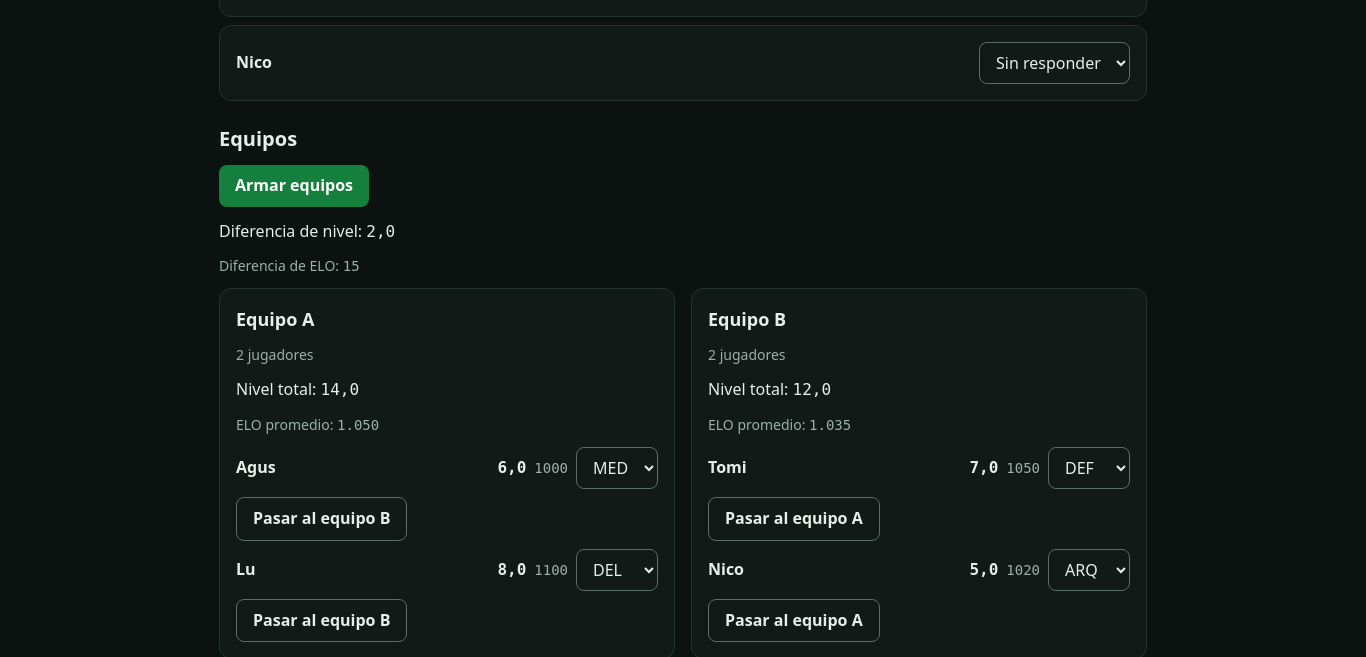
Test: MatchSetupPage › equipos guardados › el admin ve nivel total y diferencia de nivel y se actualizan al mover jugadores
(page scrolled)
Check: the text "Diferencia de nivel: 2,0" is shown, box [219, 220, 395, 242]
Check: the text "Nivel total: 14,0" is shown, box [236, 378, 359, 400]
Click the button named "Pasar al equipo B (Lu)" at (322, 620), box [236, 599, 407, 642]
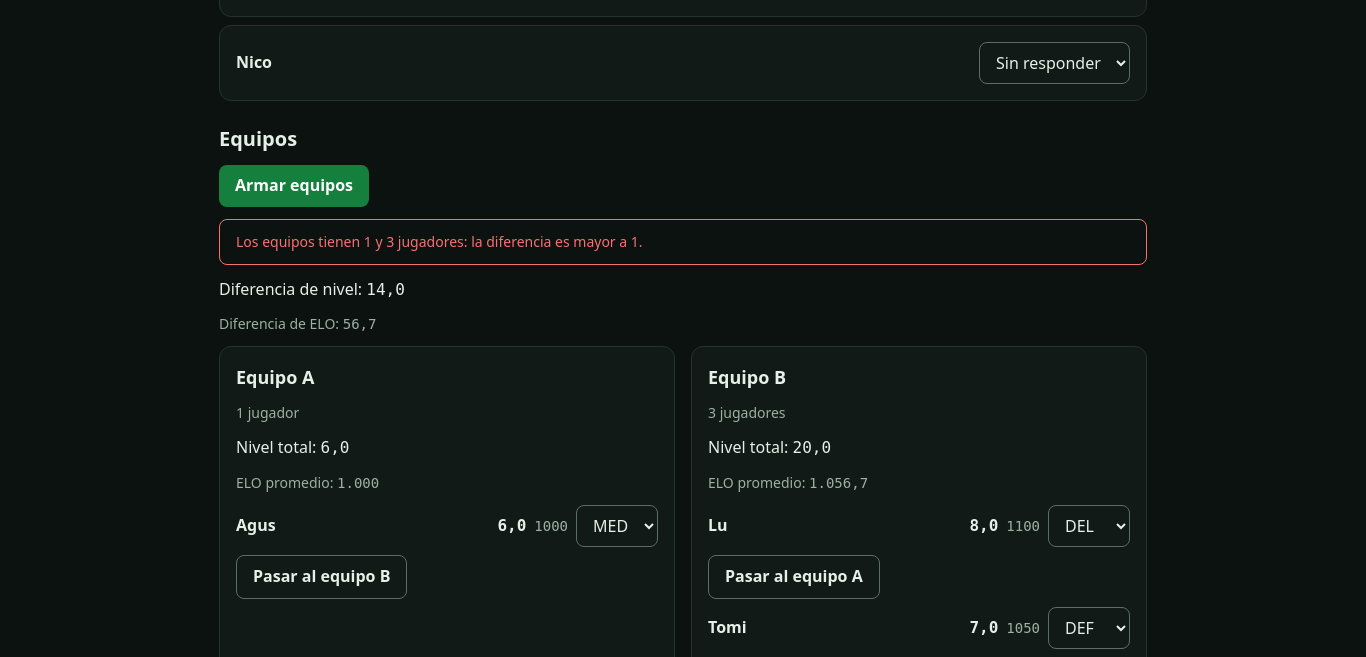
Check: the text "Diferencia de nivel: 14,0" is shown, box [219, 278, 405, 300]
Check: the text "Nivel total: 6,0" is shown, box [236, 436, 349, 458]
Check: the text "1 jugador" is shown, box [236, 403, 299, 422]
